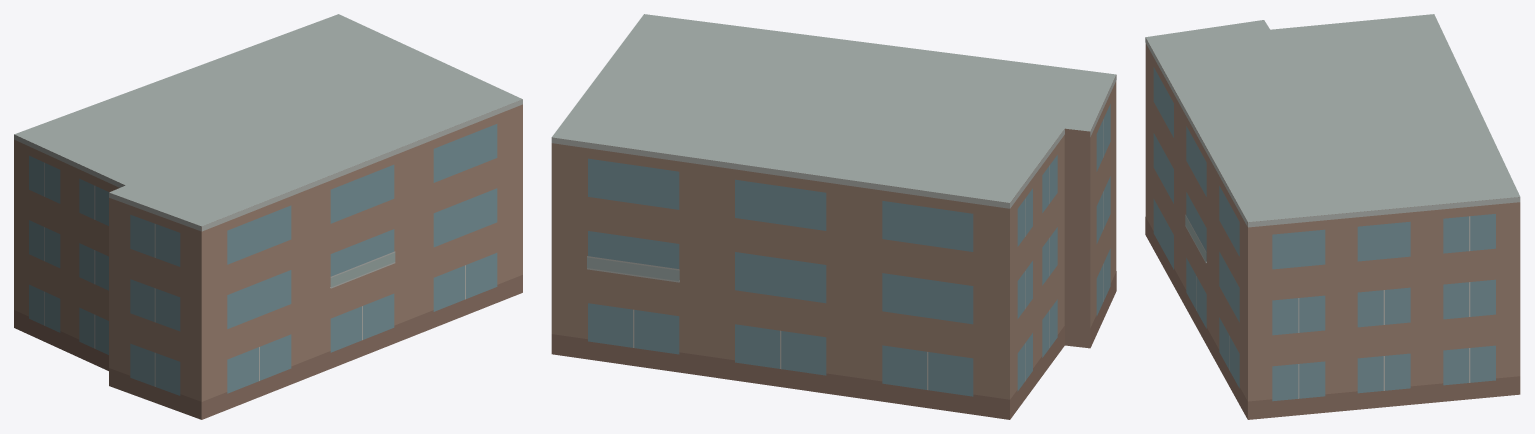
Rendered from survey-upis-33006775.glb.
3 renders of one model, left to right at view 1: azimuth 30°, elevation 25°; view 2: azimuth 150°, elevation 25°; view 3: azimuth 270°, elevation 25°, orthographic. The views are drawn at different scales.
Visible parts, largest first — view 1: survey-upis-33006775.tmp; view 2: survey-upis-33006775.tmp; view 3: survey-upis-33006775.tmp.
Boxes of the visible parts, bbox=[...] form: survey-upis-33006775.tmp: bbox=[14, 14, 522, 419]; survey-upis-33006775.tmp: bbox=[551, 14, 1116, 419]; survey-upis-33006775.tmp: bbox=[1145, 14, 1520, 419].
Size of the model in its own units: 20.68 by 9.15 by 15.74.
